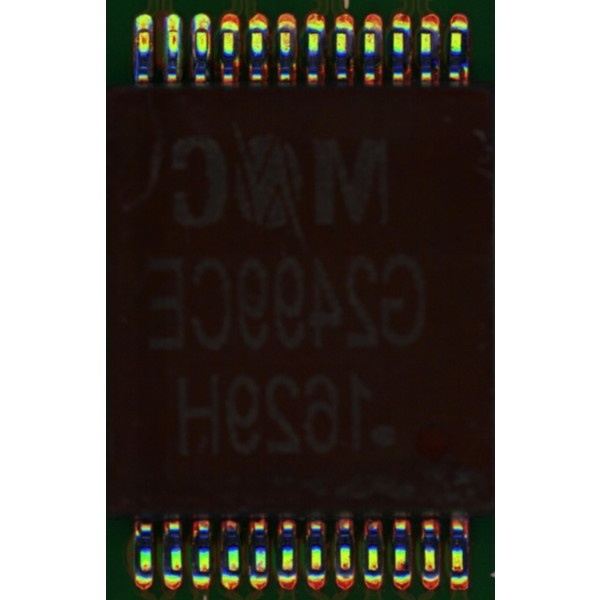Bad_podu: (139, 24, 149, 39), (196, 25, 207, 35), (170, 25, 177, 40)
Bad_qiaojiao: (191, 32, 197, 60), (207, 33, 211, 60)
